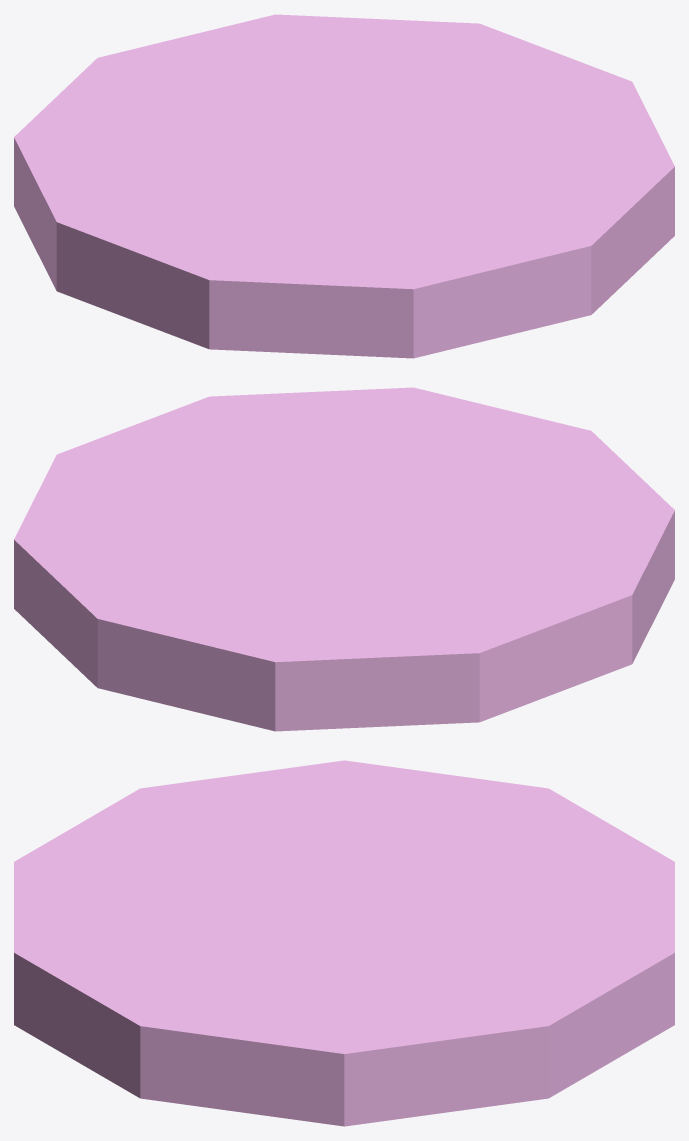
File: patchModelReflectWall.gltf
The picture shows the model from 3 angles, top to bottom: view 1: azimuth 30°, elevation 25°; view 2: azimuth 150°, elevation 25°; view 3: azimuth 270°, elevation 25°; orthographic projection. The views are drawn at different scales.
Parts seen in each view (by area): view 1: pCylinder6; view 2: pCylinder6; view 3: pCylinder6.
Boxes of the visible parts, box(x1,y1,x2,y2) form: pCylinder6: box(14, 14, 674, 358); pCylinder6: box(14, 387, 674, 731); pCylinder6: box(14, 760, 674, 1126).
Bounding box in the file's own units: 1.74 × 0.2 × 1.65.
